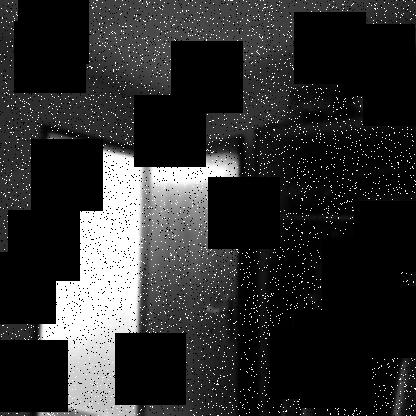Porte: (29, 121, 252, 415)
